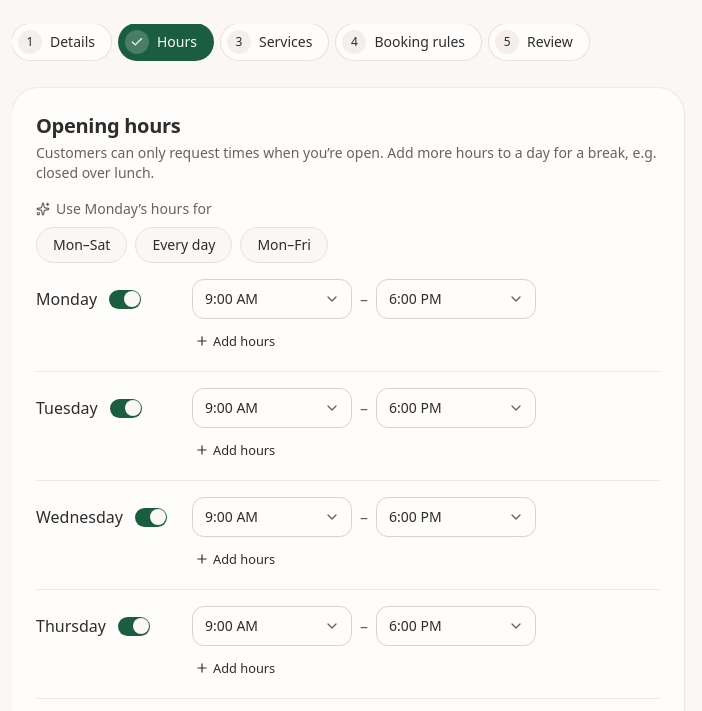
Test: MerchantOnboardingPage › sets the week’s hours in one tap
Click the button "Every day" at (184, 245), box [135, 227, 232, 263]
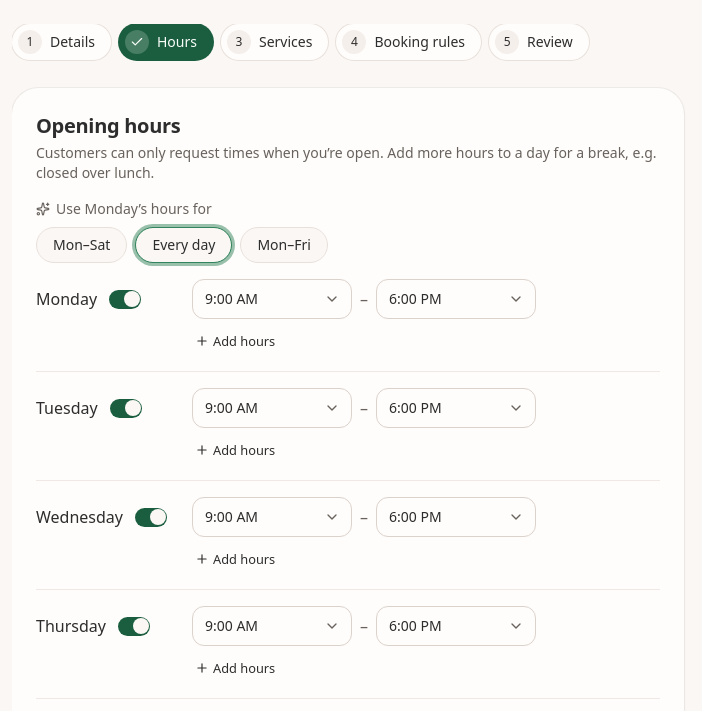
Click the button "Mon–Fri" at (284, 245), box [240, 227, 328, 263]
(page scrolled)
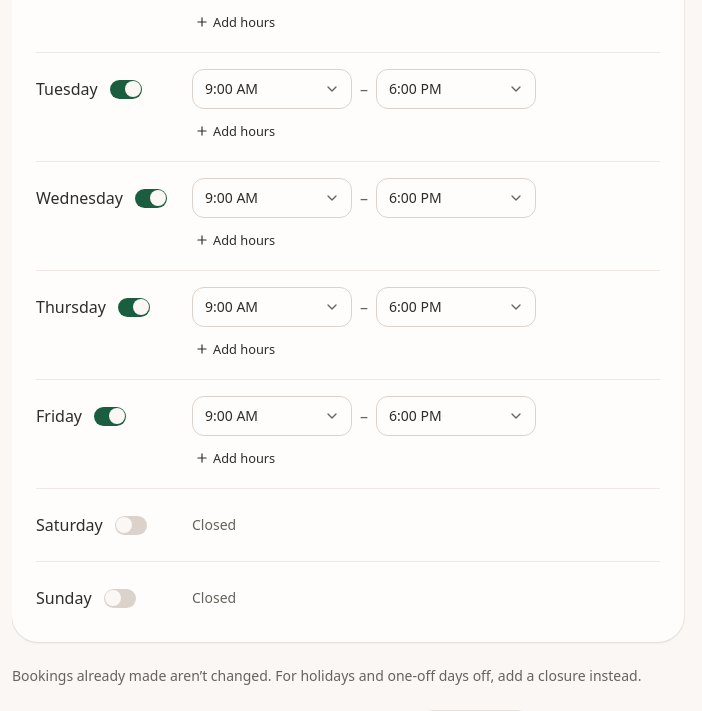
Check: the switch named "Open on Friday" is checked, box [94, 407, 126, 426]
Check: the switch named "Open on Saturday" is not checked, box [115, 516, 147, 535]
